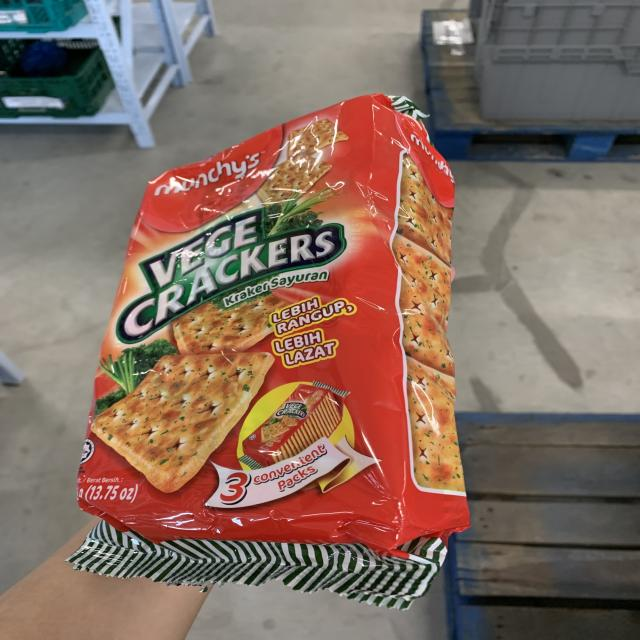object_name: (74, 117, 435, 575)
